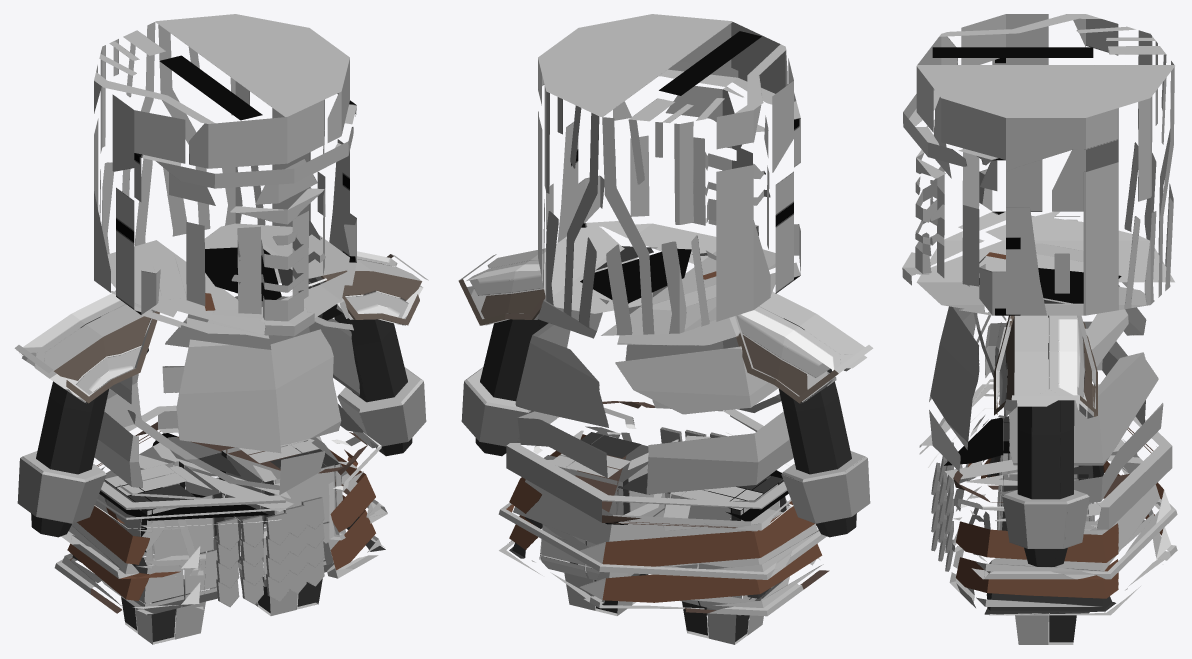
The model's file is Enemy_01.fbx.
3 renders of one model, left to right at view 1: azimuth 30°, elevation 25°; view 2: azimuth 150°, elevation 25°; view 3: azimuth 270°, elevation 25°, orthographic.
Parts seen in each view (by area): view 1: Head, Body, Arm, Leg, Plane, Scales; view 2: Body, Head, Arm, Plane, Leg; view 3: Head, Body, Arm, Plane, Leg, Scales.
Part boxes in pixels (x1,y1,x2,y2): Head: [94, 14, 356, 336]; Body: [54, 247, 387, 614]; Arm: [17, 278, 426, 537]; Leg: [102, 439, 345, 644]; Plane: [14, 251, 428, 403]; Scales: [216, 497, 324, 607]; Body: [498, 246, 829, 616]; Head: [538, 14, 800, 335]; Arm: [461, 318, 870, 537]; Plane: [458, 248, 873, 403]; Leg: [539, 432, 786, 644]; Head: [902, 14, 1174, 315]; Body: [919, 243, 1177, 615]; Arm: [1002, 315, 1089, 566]; Plane: [993, 216, 1097, 418]; Leg: [997, 417, 1094, 644]; Scales: [931, 442, 953, 571].
Bounding box in the file's own units: 864 × 1154 × 534.
